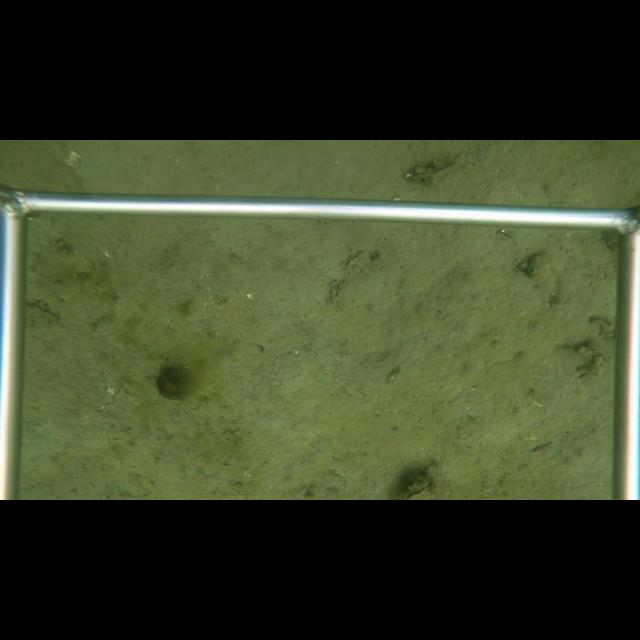Oyster-Closed: (329, 277, 347, 309), (402, 482, 435, 498), (342, 252, 362, 272)
